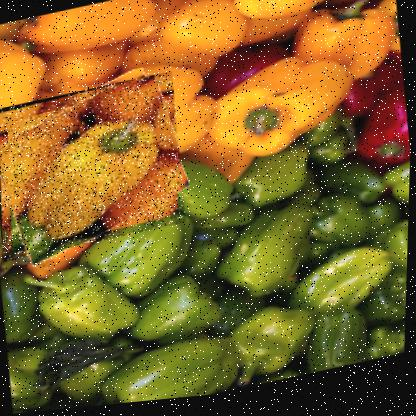capsicum: (0, 71, 191, 263)
